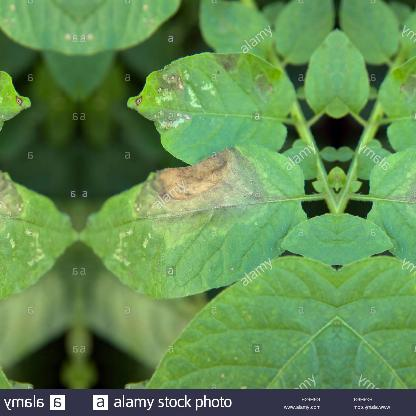Late-Blight: (80, 46, 336, 300), (337, 45, 416, 300), (0, 45, 76, 300)
